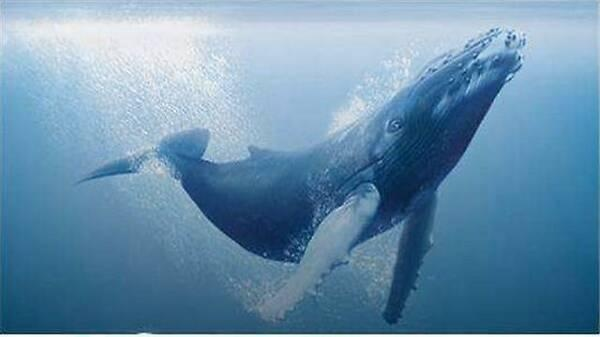fish: (64, 22, 532, 320)
